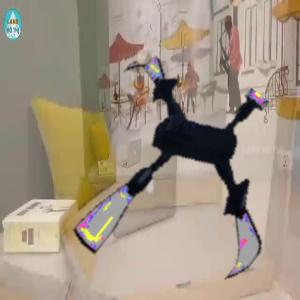drone: (64, 63, 295, 294)
